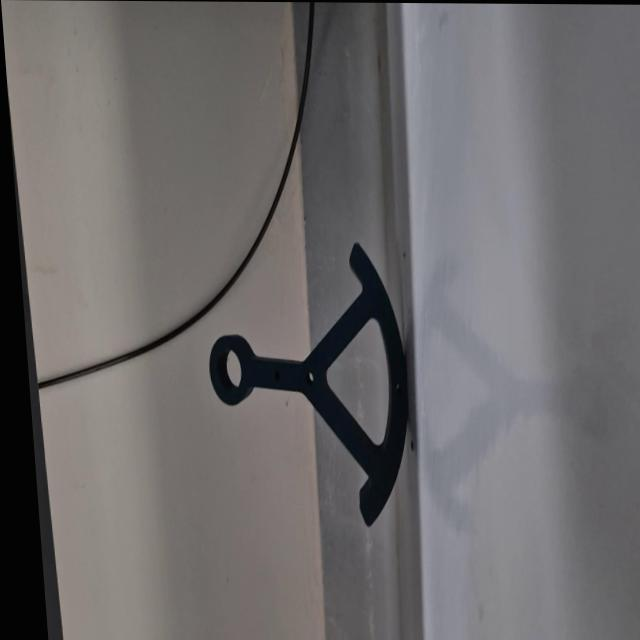haptic: (198, 240, 417, 529)
